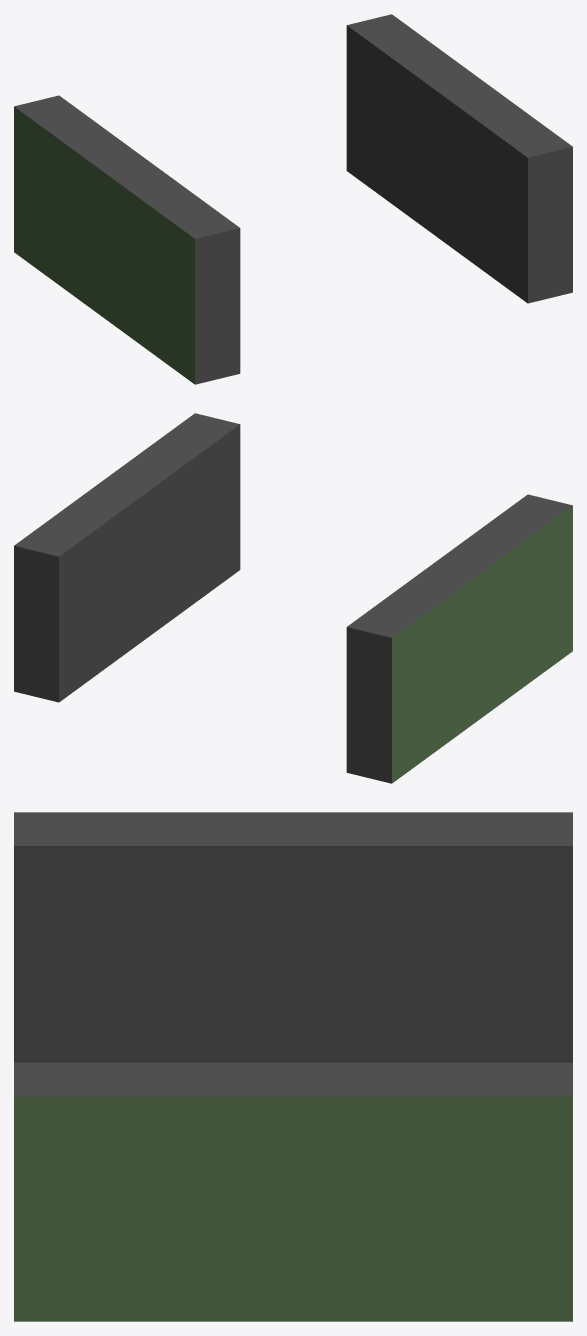
File: mr-cab-sides.dae
The picture shows the model from 3 angles, top to bottom: view 1: azimuth 30°, elevation 25°; view 2: azimuth 150°, elevation 25°; view 3: azimuth 270°, elevation 25°; orthographic projection. The views are drawn at different scales.
Visible parts, largest first — view 1: Cube_006, Cube_007; view 2: Cube_006, Cube_007; view 3: Cube_006, Cube_007.
Boxes of the visible parts, x1,y1,x2,y2 form: Cube_006: (346,14,572,303); Cube_007: (14,95,240,384); Cube_006: (14,413,240,702); Cube_007: (346,494,572,783); Cube_006: (14,1062,572,1321); Cube_007: (14,812,572,1062).
Bounding box in the file's own units: 1.62 × 1.34 × 0.5965.
